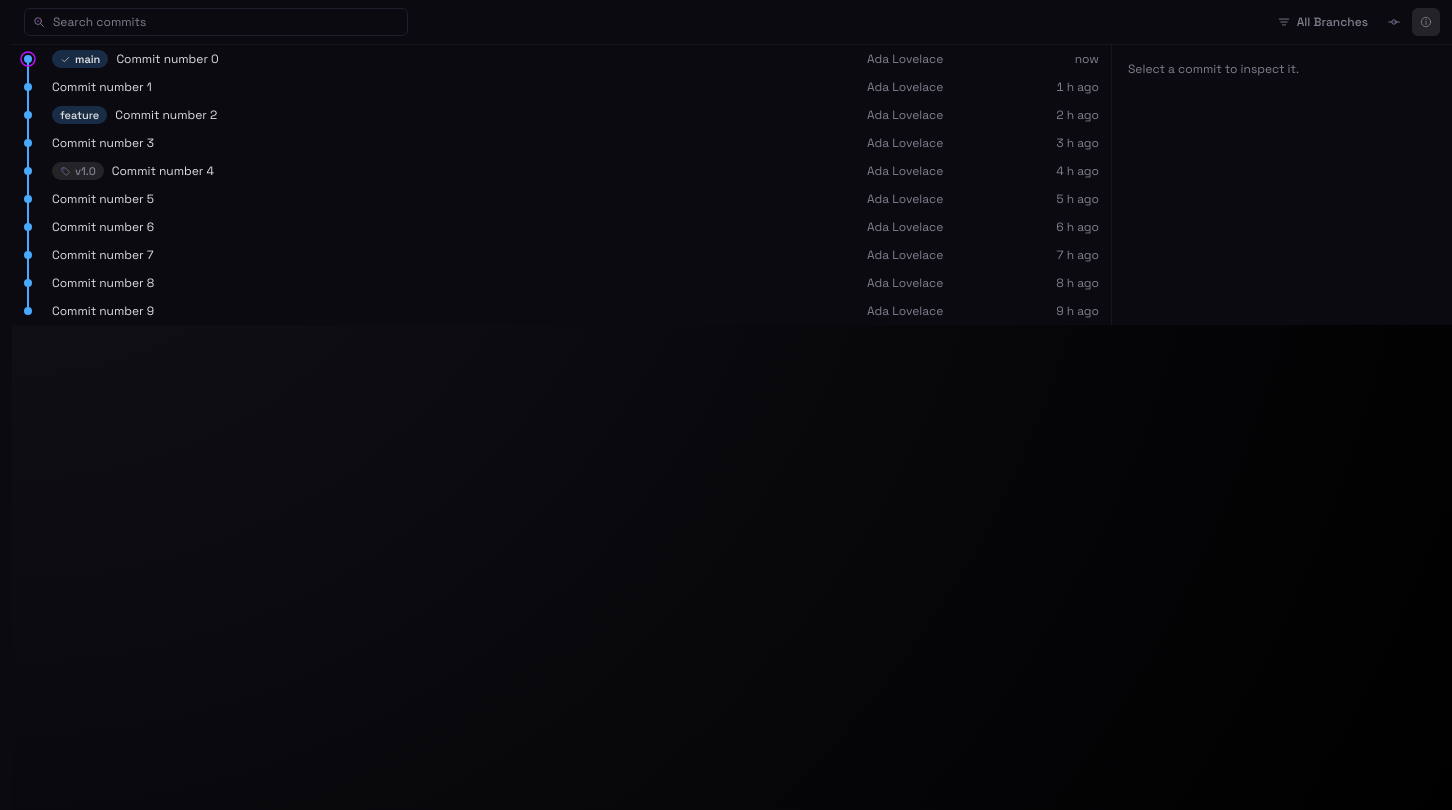
Test: GitGraphView › focus and keyboard menus › labels the branch filter as a group of choices
Click the button with aria-label "Branches:" at point(1322, 22), box [1269,8,1376,36]
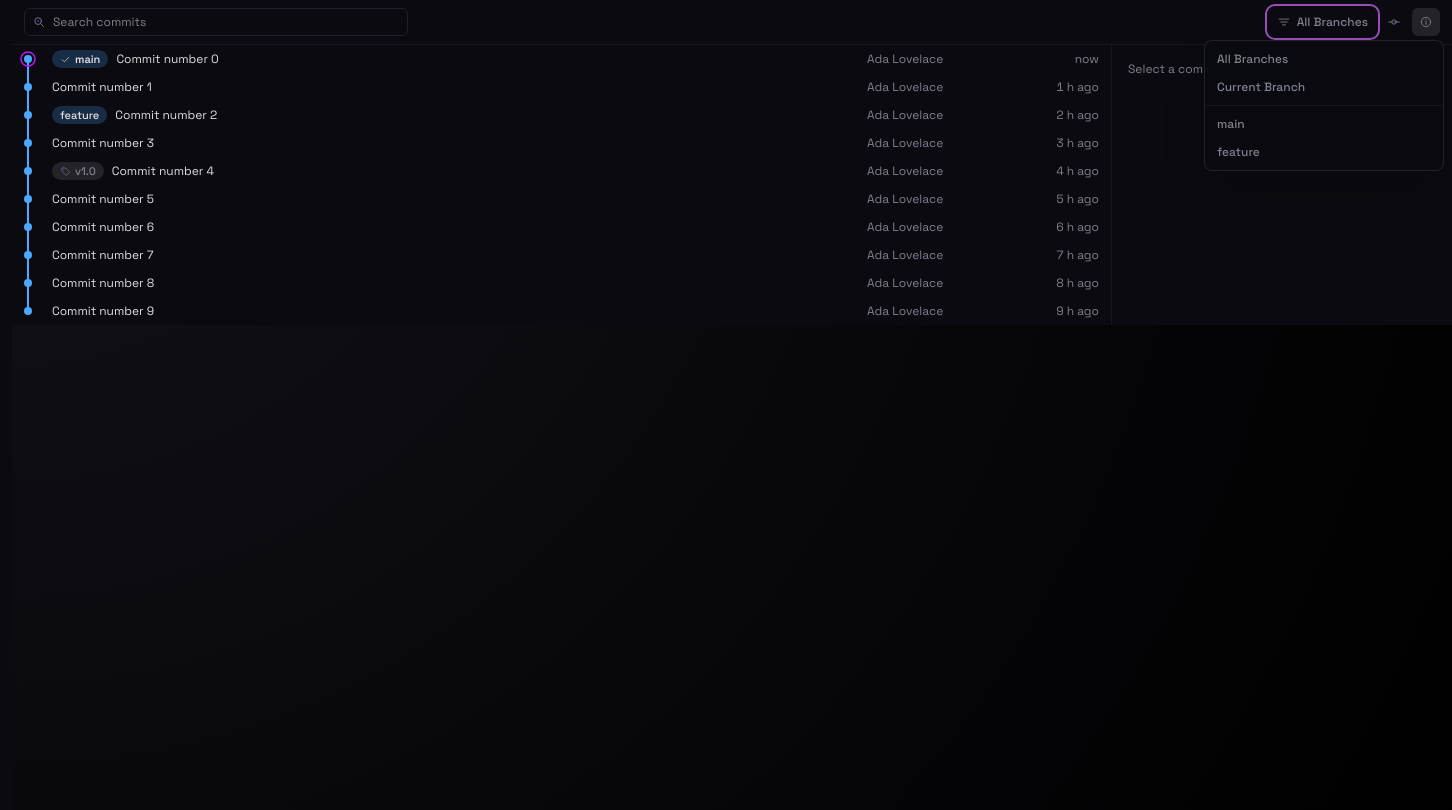
Now the menu named "Branch filter" is shown, box [1204,40,1444,171]
Now the menu item "All Branches" is checked, box [1205,45,1443,73]
Now the menu item "Current Branch" is not checked, box [1205,73,1443,101]
